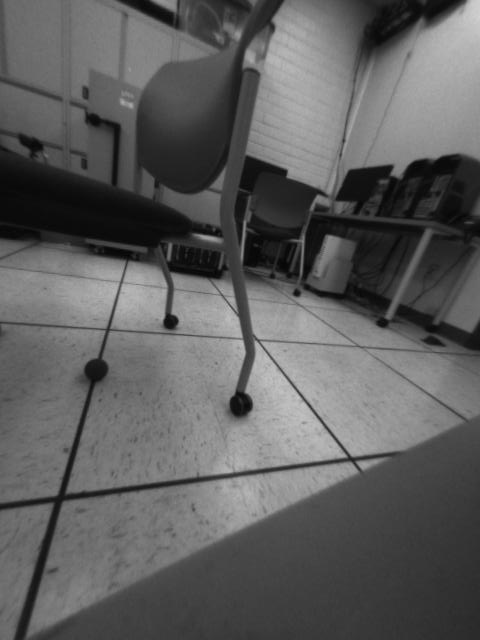dogtoy: (77, 354, 117, 388)
